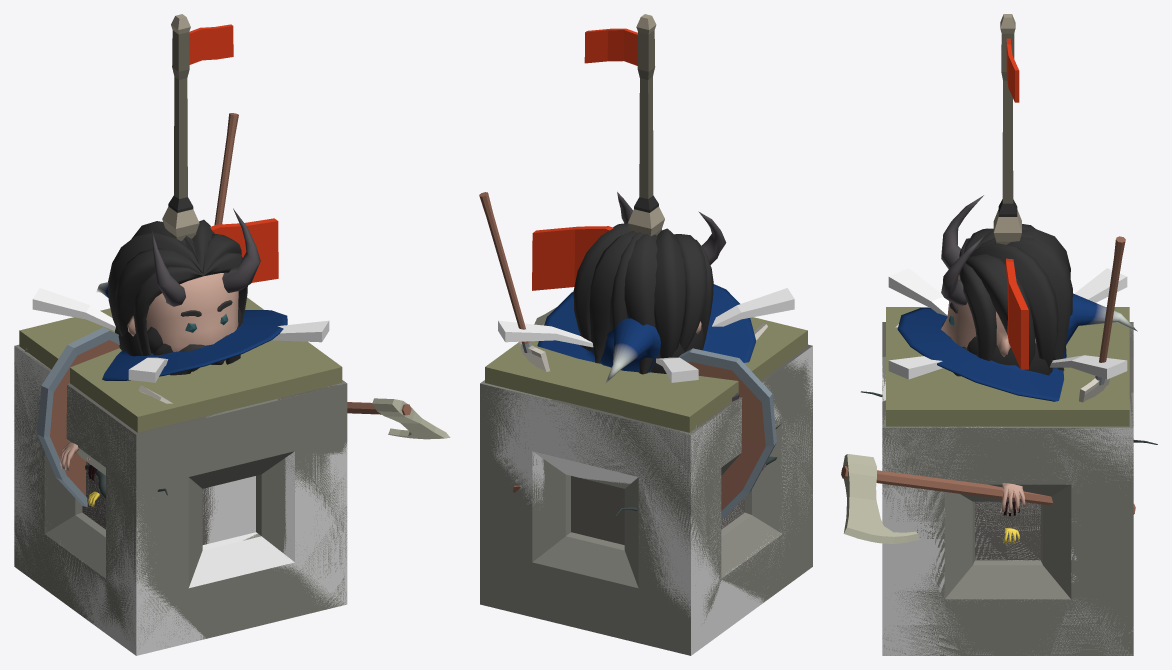
Rendered from qwe.fbx.
3 renders of one model, left to right at view 1: azimuth 30°, elevation 25°; view 2: azimuth 150°, elevation 25°; view 3: azimuth 270°, elevation 25°, orthographic. The views are drawn at different scales.
Visible parts, largest first — view 1: dig_2, Cube.003, box_3, jupiter, box_1, spawn, flag_taked, pandora, target, flag, sirius; view 2: box_3, dig_2, Cube.003, jupiter, box_1, spawn, pandora, flag_taked, flag, target, sirius; view 3: dig_2, jupiter, box_2, spawn, Cube.003, box_3, pandora, target, flag_taked, flag, sirius.
Boxes of the visible parts, x1,y1,x2,y2 form: dig_2: (14, 113, 347, 644); Cube.003: (14, 346, 347, 655); box_3: (17, 346, 346, 637); jupiter: (37, 208, 450, 507); box_1: (14, 356, 347, 646); spawn: (15, 297, 347, 487); flag_taked: (168, 14, 233, 212); pandora: (96, 282, 287, 380); target: (32, 288, 329, 382); flag: (162, 206, 278, 282); sirius: (85, 325, 167, 498); box_3: (480, 384, 782, 654); dig_2: (479, 192, 812, 655); Cube.003: (487, 346, 812, 655); jupiter: (512, 192, 776, 520); box_1: (480, 359, 812, 653); spawn: (480, 317, 812, 507); pandora: (537, 284, 755, 383); flag_taked: (584, 14, 658, 212); flag: (532, 206, 664, 290); target: (498, 288, 794, 382); sirius: (580, 326, 777, 516); dig_2: (882, 236, 1133, 655); jupiter: (841, 195, 1135, 543); box_2: (882, 322, 1133, 655); spawn: (882, 307, 1133, 501); Cube.003: (882, 367, 1133, 655); box_3: (894, 324, 1133, 599); pandora: (897, 293, 1137, 401); target: (888, 268, 1127, 379); flag_taked: (998, 14, 1019, 216); flag: (993, 209, 1028, 369); sirius: (861, 343, 1157, 516).
Bounding box in the file's own units: 154 × 269 × 126.
Materials: 1 (1 with a texture image).
